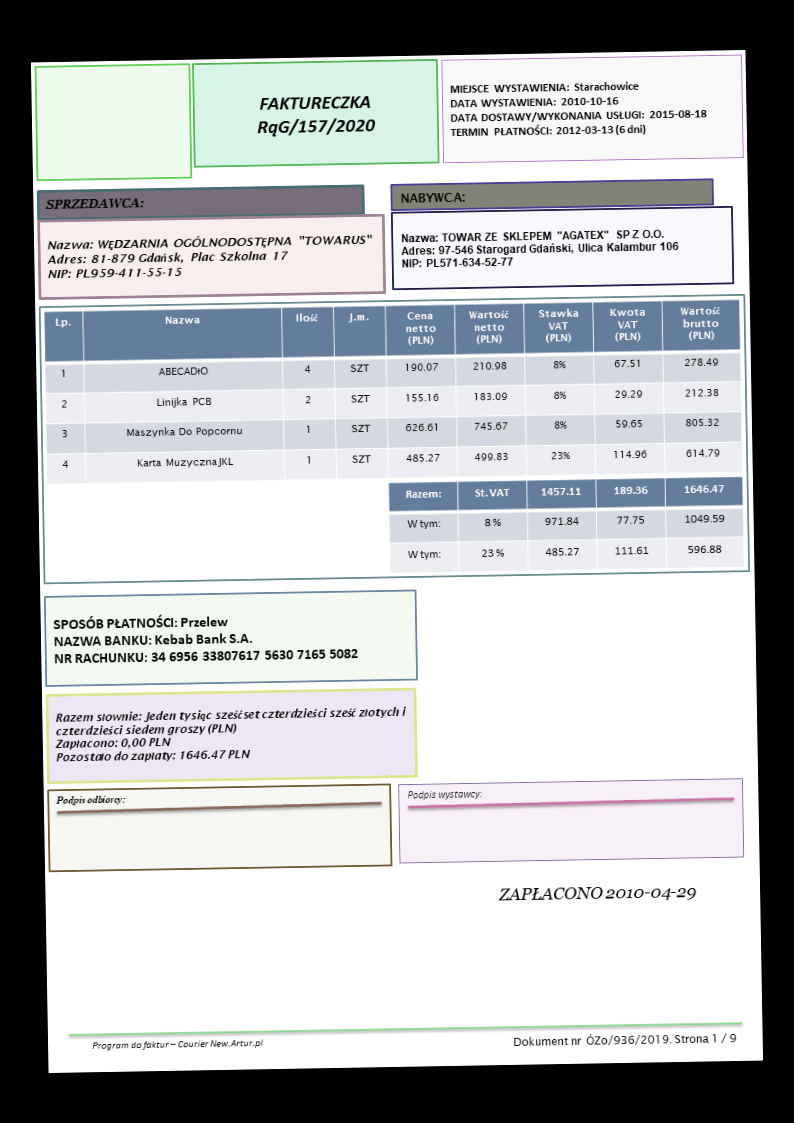Table: (42, 298, 743, 484), (387, 476, 745, 573)
TextBox: (52, 704, 409, 765), (50, 610, 361, 668), (44, 232, 374, 281), (447, 79, 709, 139), (398, 227, 680, 269), (254, 92, 377, 140), (496, 882, 698, 907), (511, 1031, 738, 1050), (88, 1036, 265, 1053), (42, 195, 145, 212), (398, 189, 467, 207), (405, 787, 483, 802), (54, 792, 128, 806)
